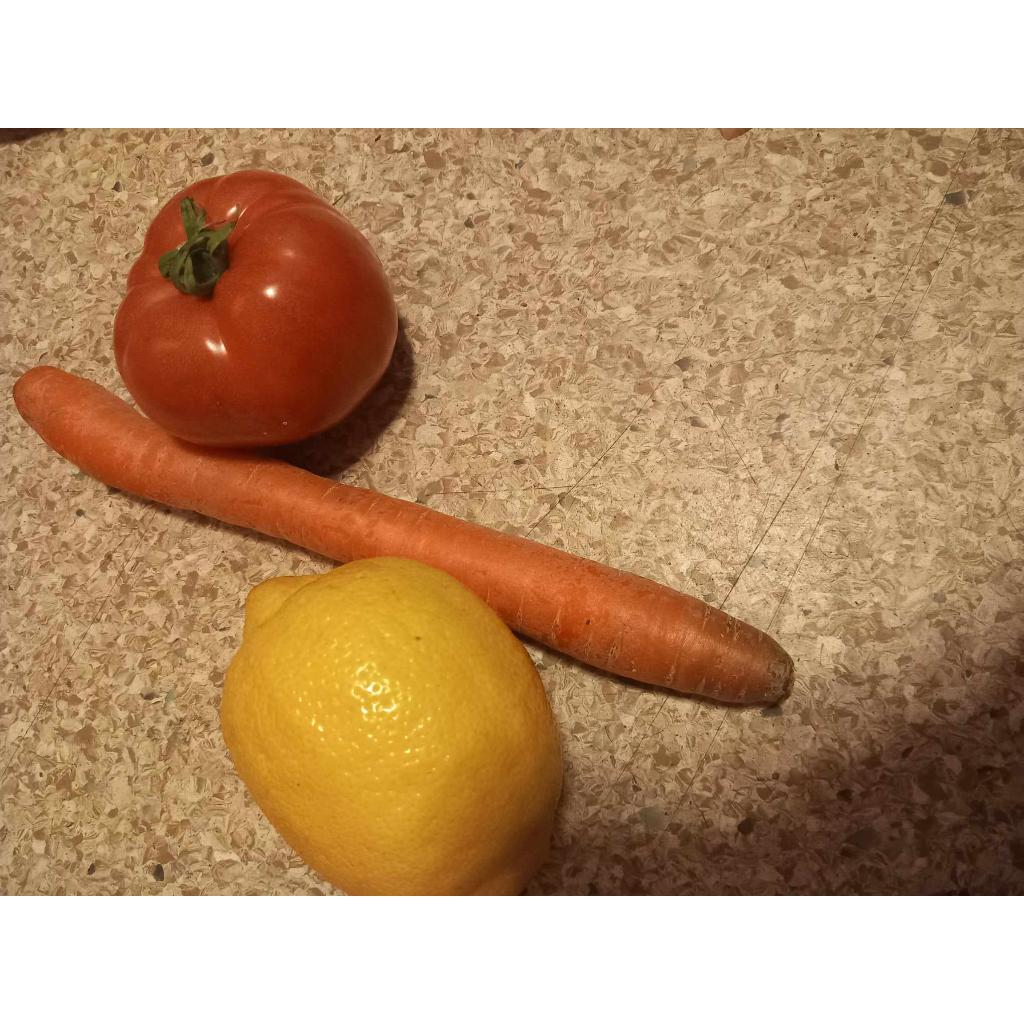carrot: (14, 366, 792, 704)
lemon: (222, 558, 562, 894)
tomato: (114, 170, 398, 448)
